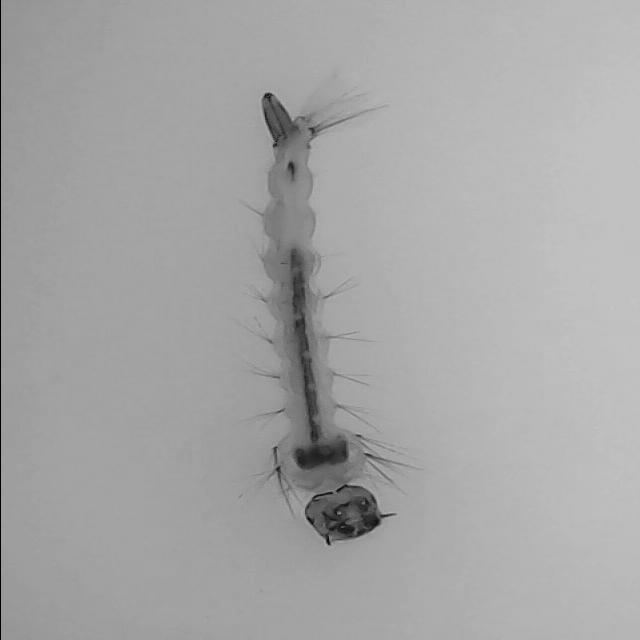larvas: (267, 88, 385, 542)
